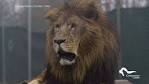lion: (48, 5, 118, 84)
